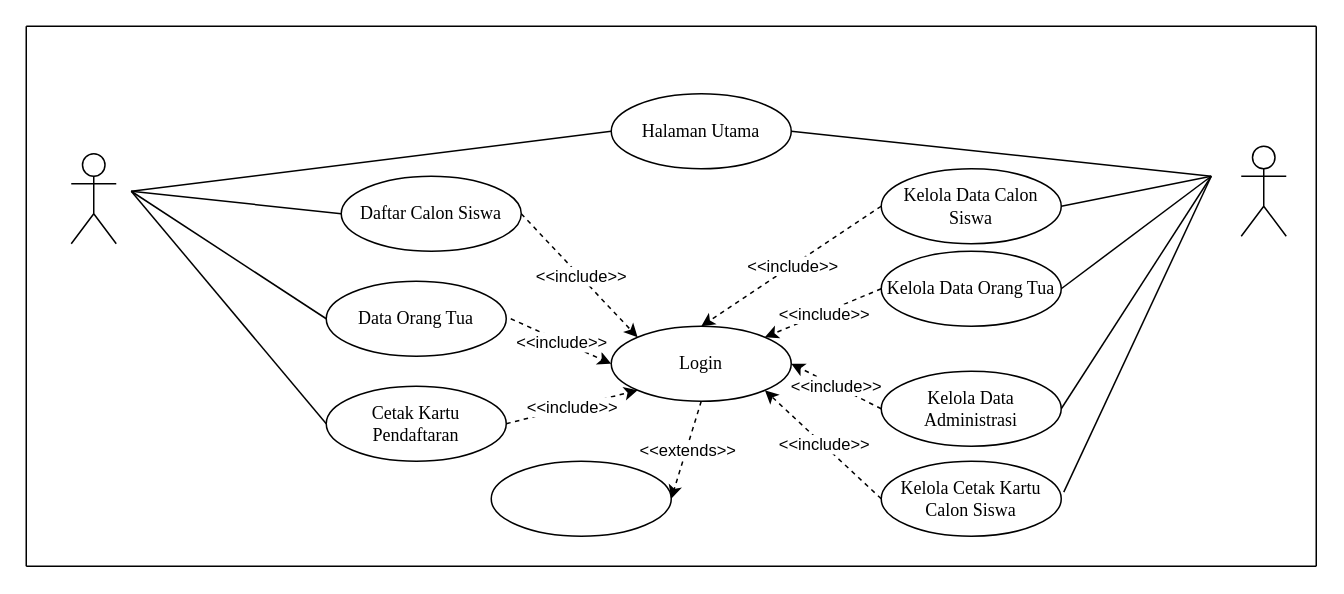
This 1344x594 diagram has some shape labels left out. Each missing label, with the centre of its shape:
"Admin" goes at pixel 1263 190.
"Calon Siswa" goes at pixel 93 198.
"Logout" goes at pixel 580 498.
